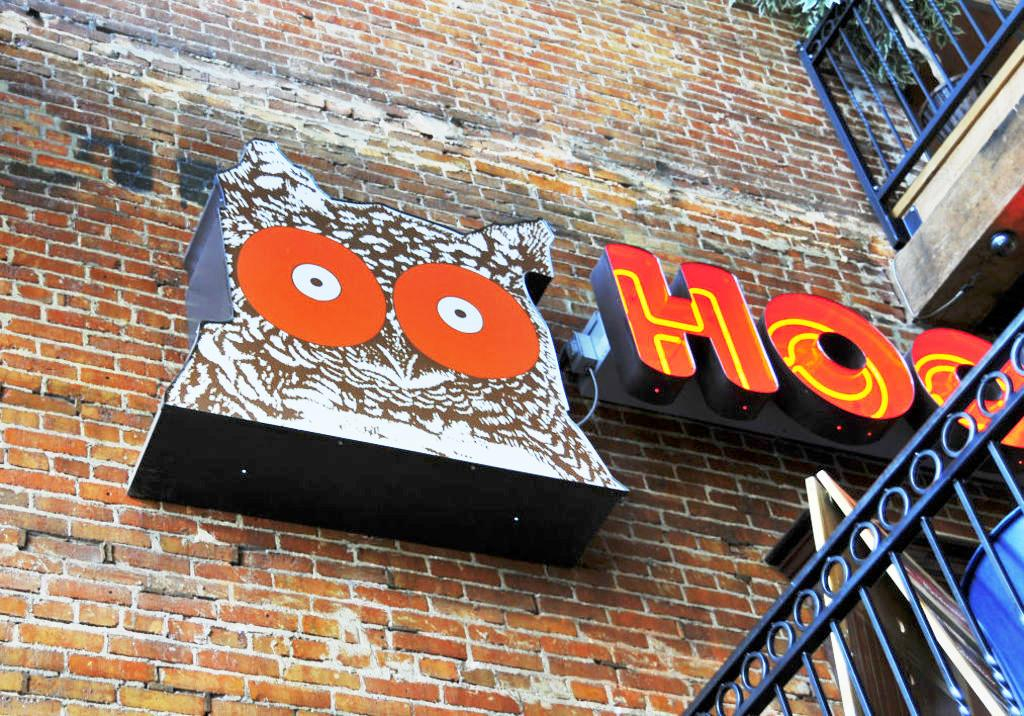Owl: (165, 135, 629, 495)
